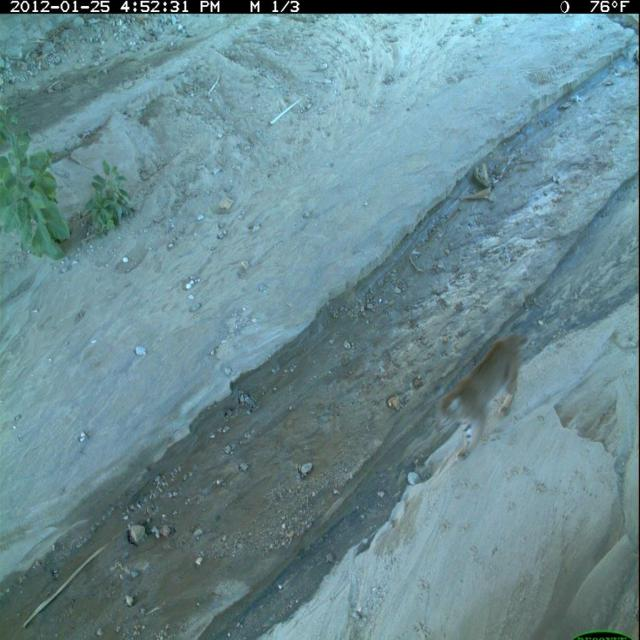bobcat: (432, 329, 539, 467)
